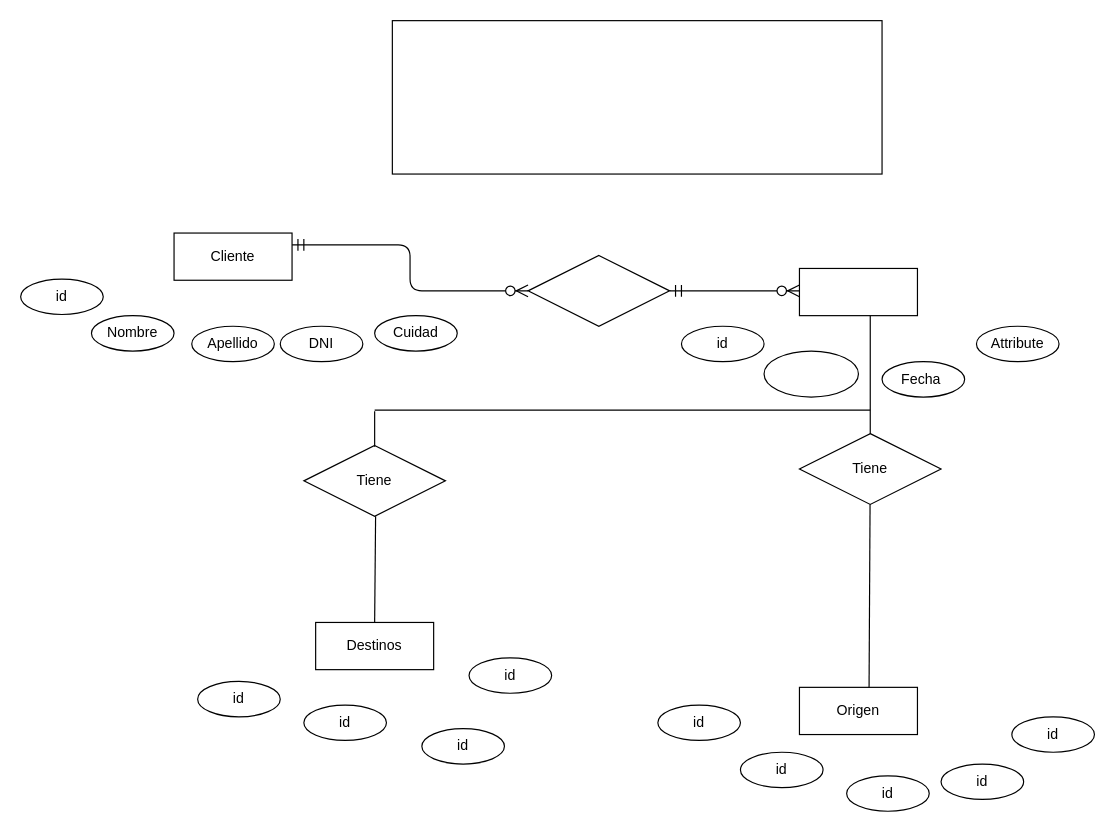
Image size: 1115x832. Some labels were removed from this diagram. Here are the shapes that lost their labels. From the top down, the box of each, then its label:
(391, 19, 882, 174): DIGITAL TURISMO DER
(527, 254, 670, 326): Busca
(798, 267, 917, 316): Viajes
(763, 350, 858, 397): Forma de pago
